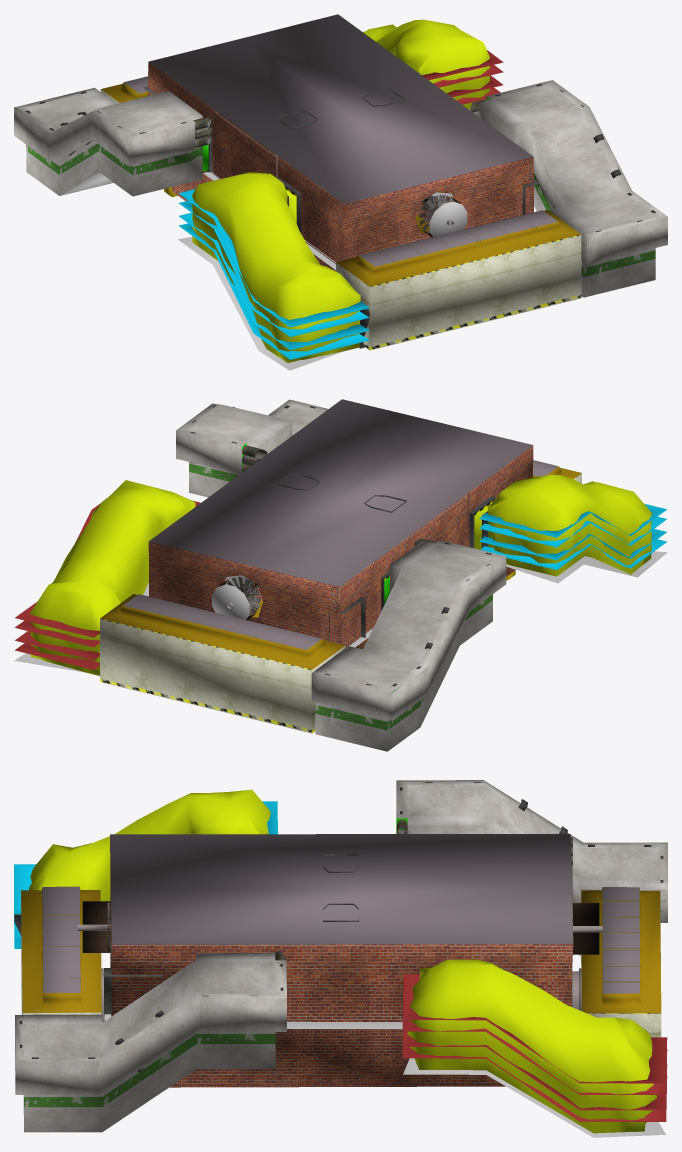
The model's file is Factory.fbx.
The picture shows the model from 3 angles, top to bottom: view 1: azimuth 30°, elevation 25°; view 2: azimuth 150°, elevation 25°; view 3: azimuth 270°, elevation 25°; orthographic projection. The views are drawn at different scales.
Parts seen in each view (by area): view 1: Plane; view 2: Plane; view 3: Plane.
Part boxes in pixels (x1,y1,x2,y2): Plane: [14, 14, 667, 370]; Plane: [14, 399, 667, 751]; Plane: [14, 780, 667, 1137].
Size of the model in its own units: 10.71 by 3.78 by 13.43.
